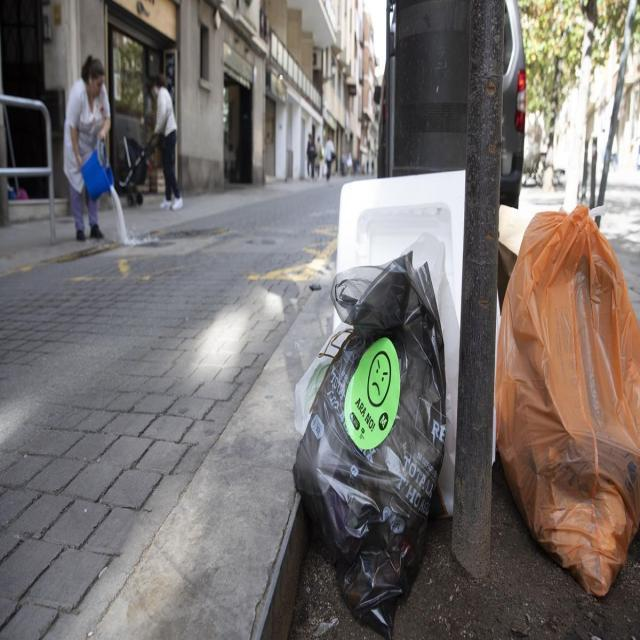garbage: (286, 151, 468, 634), (494, 194, 640, 607)
